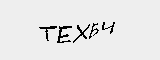Б: (89, 19, 101, 40)
Е: (57, 24, 73, 43)
Т: (37, 23, 53, 44)
Х: (73, 22, 89, 42)
Ч: (103, 19, 117, 36)
